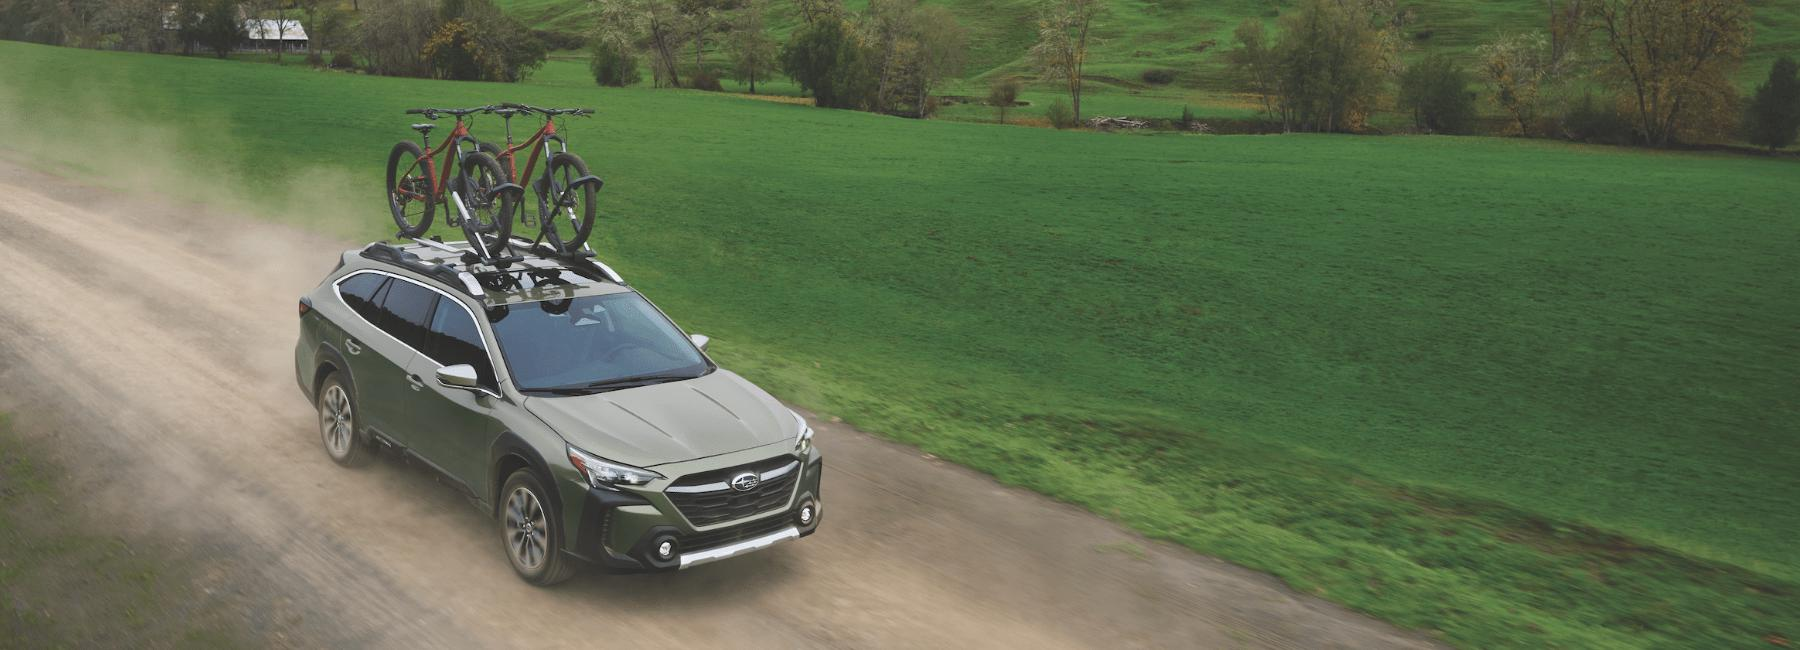subaru: (727, 464, 768, 496)
